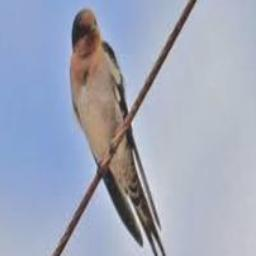Swallow: (68, 8, 167, 256)
